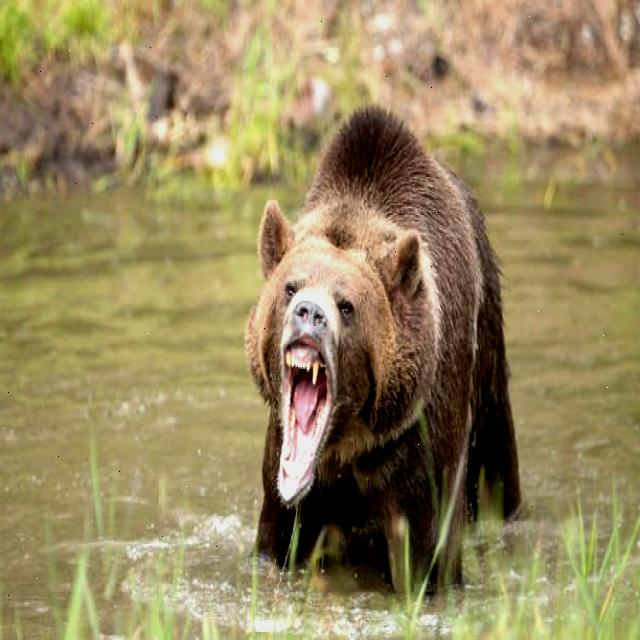bear: (250, 121, 490, 534)
